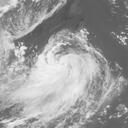cyclone: (28, 29, 105, 113)
